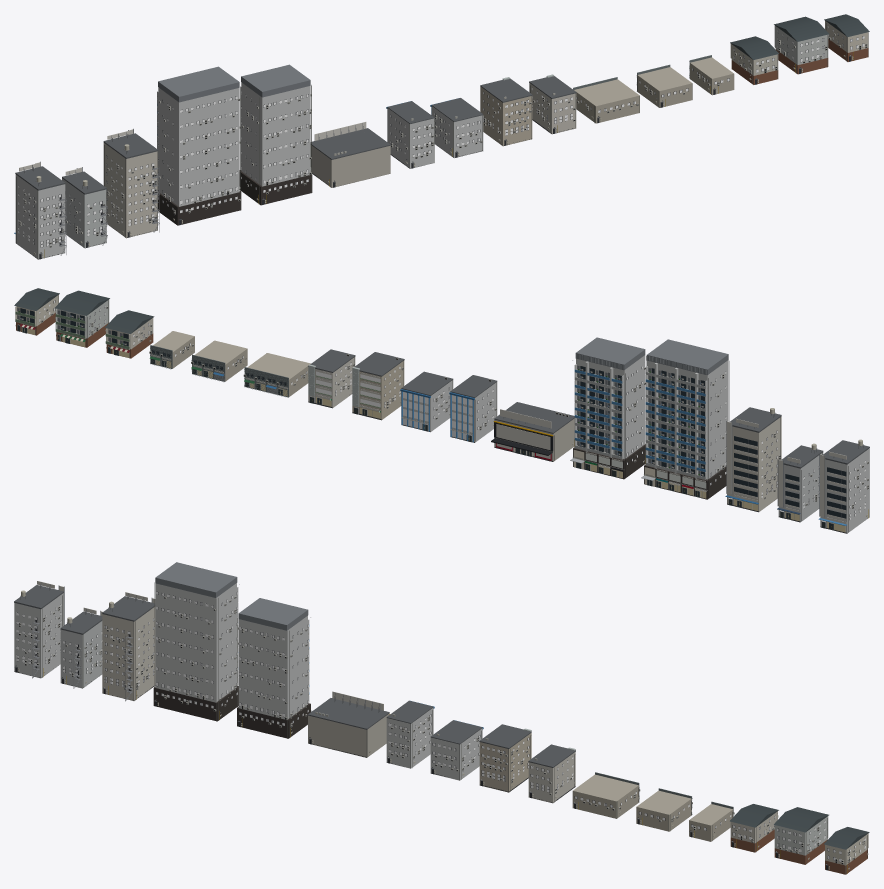
File: hibarifront.glb
3 renders of one model, top to bottom at view 1: azimuth 30°, elevation 25°; view 2: azimuth 150°, elevation 25°; view 3: azimuth 330°, elevation 25°, orthographic.
Visible parts, largest first — view 1: hibarifront_tower_a_body, hibarifront_tower_b_body, hibarifront_tenant_c_body, hibarifront_tenant_a_body, hibarifront_pachinko_a_body, hibarifront_iryo_a_body, hibarifront_tenant_b_body, hibarifront_juku_a_body, hibarifront_kominka_b_body, hibarifront_juku_b_body, hibarifront_iryo_b_body, hibarifront_tinya_a_body (+4 smaller); view 2: hibarifront_tower_a_body, hibarifront_tower_b_body, hibarifront_tenant_c_body, hibarifront_tenant_a_body, hibarifront_pachinko_a_body, hibarifront_iryo_a_body, hibarifront_tenant_b_body, hibarifront_juku_a_body, hibarifront_kominka_b_body, hibarifront_juku_b_body, hibarifront_iryo_b_body, hibarifront_tinya_a_body (+4 smaller); view 3: hibarifront_tower_a_body, hibarifront_tower_b_body, hibarifront_tenant_c_body, hibarifront_tenant_a_body, hibarifront_pachinko_a_body, hibarifront_iryo_a_body, hibarifront_tenant_b_body, hibarifront_juku_a_body, hibarifront_kominka_b_body, hibarifront_juku_b_body, hibarifront_iryo_b_body, hibarifront_tinya_a_body (+4 smaller).
Boxes of the visible parts, bbox=[...] form: hibarifront_tower_a_body: bbox=[157, 66, 241, 225]; hibarifront_tower_b_body: bbox=[239, 64, 312, 205]; hibarifront_tenant_c_body: bbox=[103, 128, 159, 238]; hibarifront_tenant_a_body: bbox=[14, 161, 66, 259]; hibarifront_pachinko_a_body: bbox=[310, 122, 390, 187]; hibarifront_iryo_a_body: bbox=[480, 77, 532, 146]; hibarifront_tenant_b_body: bbox=[62, 167, 107, 248]; hibarifront_juku_a_body: bbox=[386, 101, 434, 168]; hibarifront_kominka_b_body: bbox=[774, 16, 829, 74]; hibarifront_juku_b_body: bbox=[430, 98, 483, 158]; hibarifront_iryo_b_body: bbox=[529, 74, 576, 134]; hibarifront_tinya_a_body: bbox=[573, 77, 639, 123]; hibarifront_tower_a_body: bbox=[641, 339, 729, 499]; hibarifront_tower_b_body: bbox=[570, 337, 646, 479]; hibarifront_tenant_c_body: bbox=[725, 407, 781, 512]; hibarifront_tenant_a_body: bbox=[818, 439, 869, 533]; hibarifront_pachinko_a_body: bbox=[491, 402, 574, 461]; hibarifront_iryo_a_body: bbox=[352, 352, 404, 420]; hibarifront_tenant_b_body: bbox=[777, 443, 823, 522]; hibarifront_juku_a_body: bbox=[449, 375, 497, 442]; hibarifront_kominka_b_body: bbox=[54, 290, 109, 347]; hibarifront_juku_b_body: bbox=[400, 371, 453, 432]; hibarifront_iryo_b_body: bbox=[308, 349, 355, 408]; hibarifront_tinya_a_body: bbox=[243, 353, 310, 397]; hibarifront_tower_a_body: bbox=[153, 562, 239, 721]; hibarifront_tower_b_body: bbox=[237, 598, 312, 738]; hibarifront_tenant_c_body: bbox=[102, 592, 155, 701]; hibarifront_tenant_a_body: bbox=[14, 581, 64, 678]; hibarifront_pachinko_a_body: bbox=[308, 691, 389, 757]; hibarifront_iryo_a_body: bbox=[479, 724, 531, 792]; hibarifront_tenant_b_body: bbox=[60, 607, 102, 688]; hibarifront_juku_a_body: bbox=[386, 700, 434, 768]; hibarifront_kominka_b_body: bbox=[774, 807, 828, 864]; hibarifront_juku_b_body: bbox=[430, 720, 483, 780]; hibarifront_iryo_b_body: bbox=[528, 744, 575, 803]; hibarifront_tinya_a_body: bbox=[572, 772, 640, 818].
Size of the model in its own units: 340 by 50.2 by 20.85.
